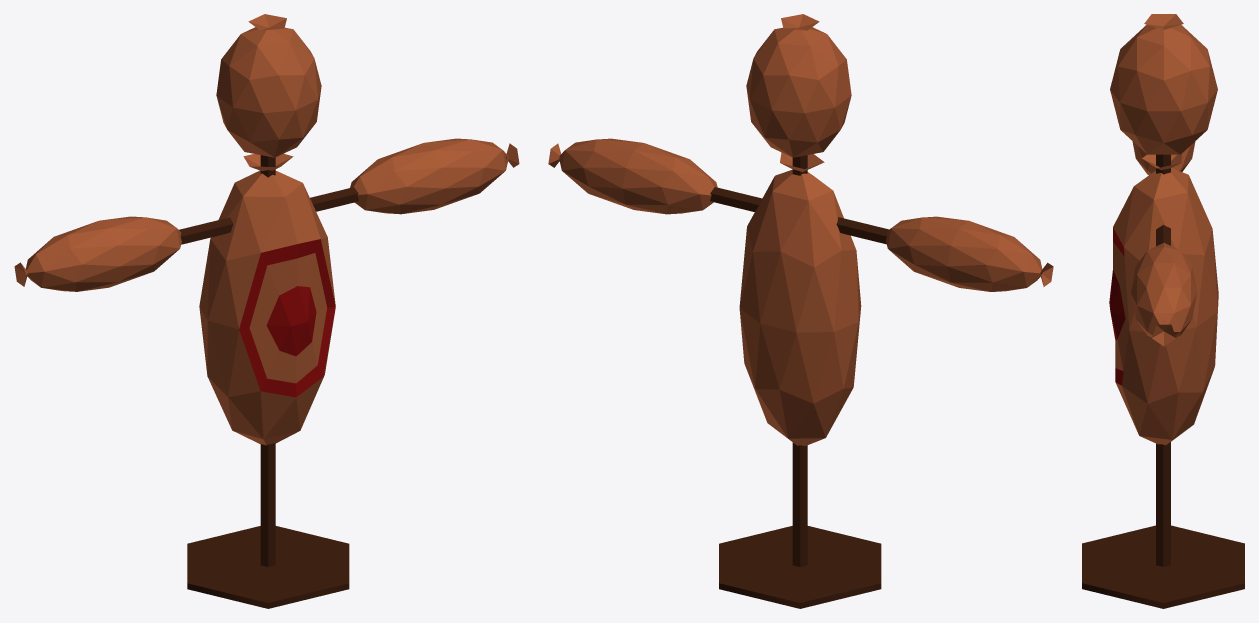
The model's file is TargetDummy.fbx.
3 renders of one model, left to right at view 1: azimuth 30°, elevation 25°; view 2: azimuth 150°, elevation 25°; view 3: azimuth 270°, elevation 25°, orthographic.
Parts seen in each view (by area): view 1: GeoSphere002, Cylinder008, GeoSphere001, GeoSphere003, GeoSphere004, Stick_Cross; view 2: GeoSphere002, Cylinder008, GeoSphere001, GeoSphere003, GeoSphere004, Stick_Cross; view 3: GeoSphere002, Cylinder008, GeoSphere001, GeoSphere003, GeoSphere004, Stick_Cross.
Part boxes in pixels (x1,y1,x2,y2): GeoSphere002: (199, 153, 335, 445); Cylinder008: (187, 155, 349, 608); GeoSphere001: (216, 14, 321, 157); GeoSphere003: (350, 138, 519, 214); GeoSphere004: (14, 216, 181, 291); Stick_Cross: (179, 156, 506, 244); GeoSphere002: (739, 152, 861, 445); Cylinder008: (719, 155, 881, 608); GeoSphere001: (746, 14, 851, 157); GeoSphere003: (548, 138, 717, 214); GeoSphere004: (886, 216, 1053, 291); Stick_Cross: (710, 187, 889, 244); GeoSphere002: (1109, 154, 1218, 445); Cylinder008: (1082, 154, 1244, 608); GeoSphere001: (1110, 14, 1217, 154); GeoSphere003: (1131, 243, 1196, 346); GeoSphere004: (1132, 141, 1195, 174); Stick_Cross: (1156, 225, 1170, 321).
Size of the model in its own units: 70.36 by 74.54 by 20.05.
